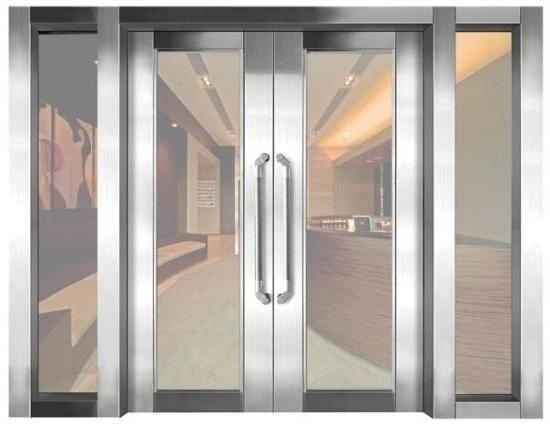door: (127, 11, 272, 421), (276, 15, 423, 416)
